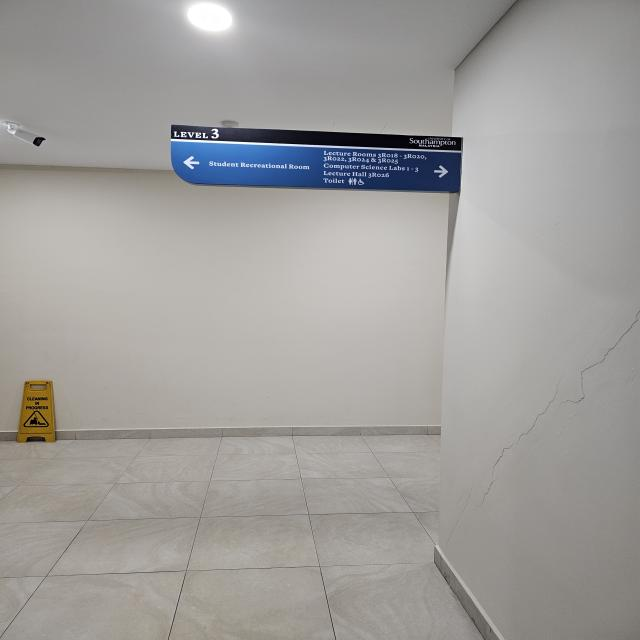footpath: (0, 438, 434, 640)
obstacle: (15, 378, 60, 444)
